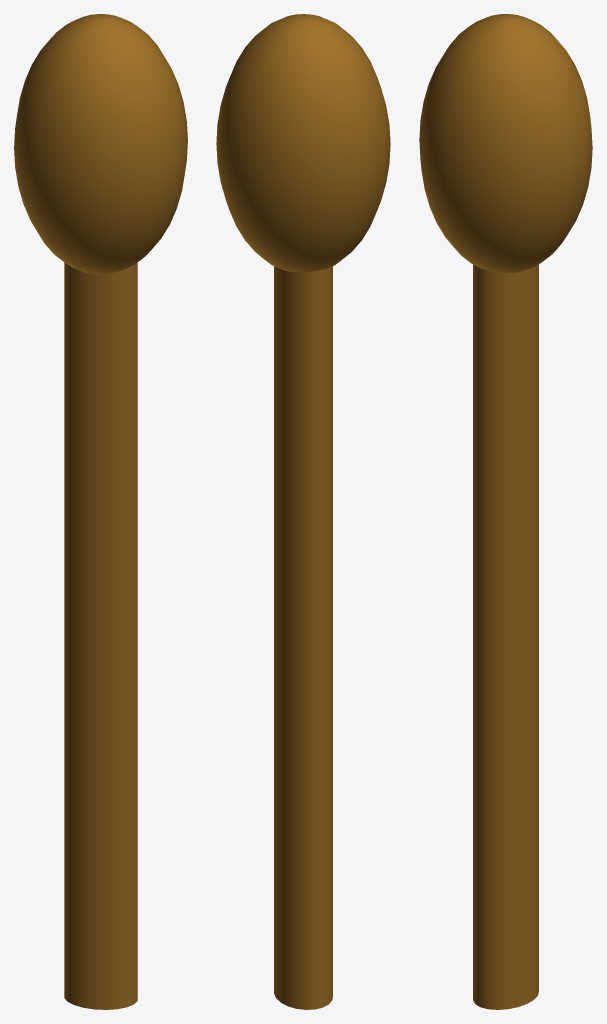
File: Bulb00.fbx
3 views of the same model, side by side, from view 1: azimuth 30°, elevation 25°; view 2: azimuth 150°, elevation 25°; view 3: azimuth 270°, elevation 25° (orthographic).
Parts seen in each view (by area): view 1: polySurface30; view 2: polySurface30; view 3: polySurface30.
Part boxes in pixels (left/top/right/bottom): polySurface30: left=14, top=14, right=187, bottom=1009; polySurface30: left=216, top=14, right=390, bottom=1009; polySurface30: left=419, top=14, right=592, bottom=1009.
Size of the model in its own units: 0.0699 by 0.4344 by 0.0699.
